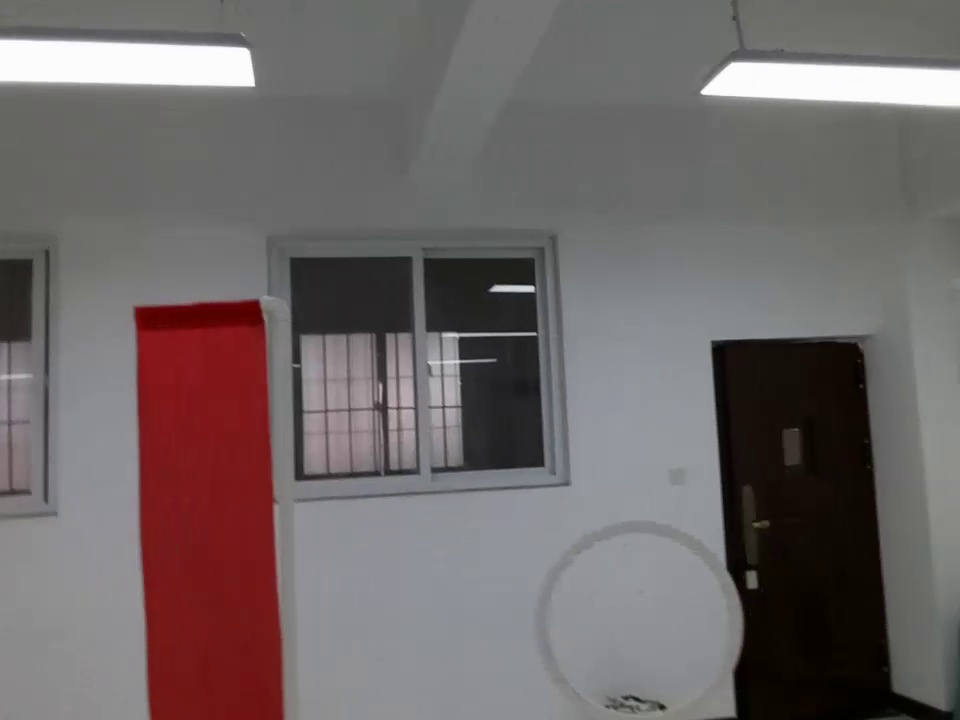qi: (122, 298, 311, 720)
quan: (526, 519, 758, 719)
